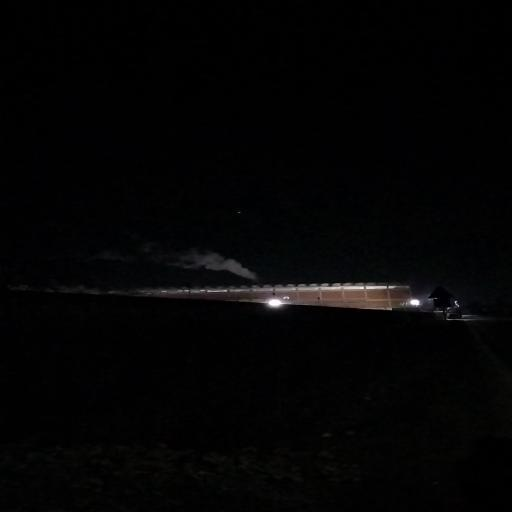leakage: (88, 241, 282, 288)
